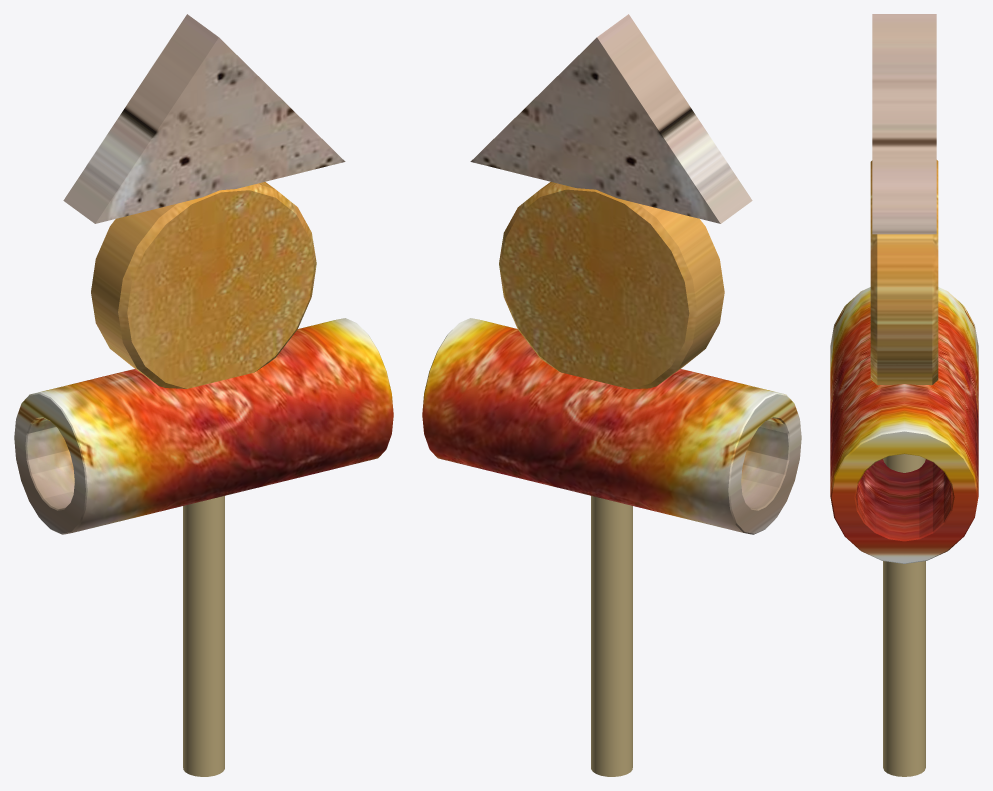
File: Oden.fbx
The picture shows the model from 3 angles, left to right: view 1: azimuth 30°, elevation 25°; view 2: azimuth 150°, elevation 25°; view 3: azimuth 270°, elevation 25°; orthographic projection.
Parts seen in each view (by area): view 1: pCylinder6; view 2: pCylinder6; view 3: pCylinder6.
Part boxes in pixels (x1,y1,x2,y2): pCylinder6: (14,14,393,776); pCylinder6: (422,14,801,776); pCylinder6: (830,14,978,776).
Bounding box in the file's own units: 3.1 × 7.14 × 1.27.
Materials: 2 (1 with a texture image).
